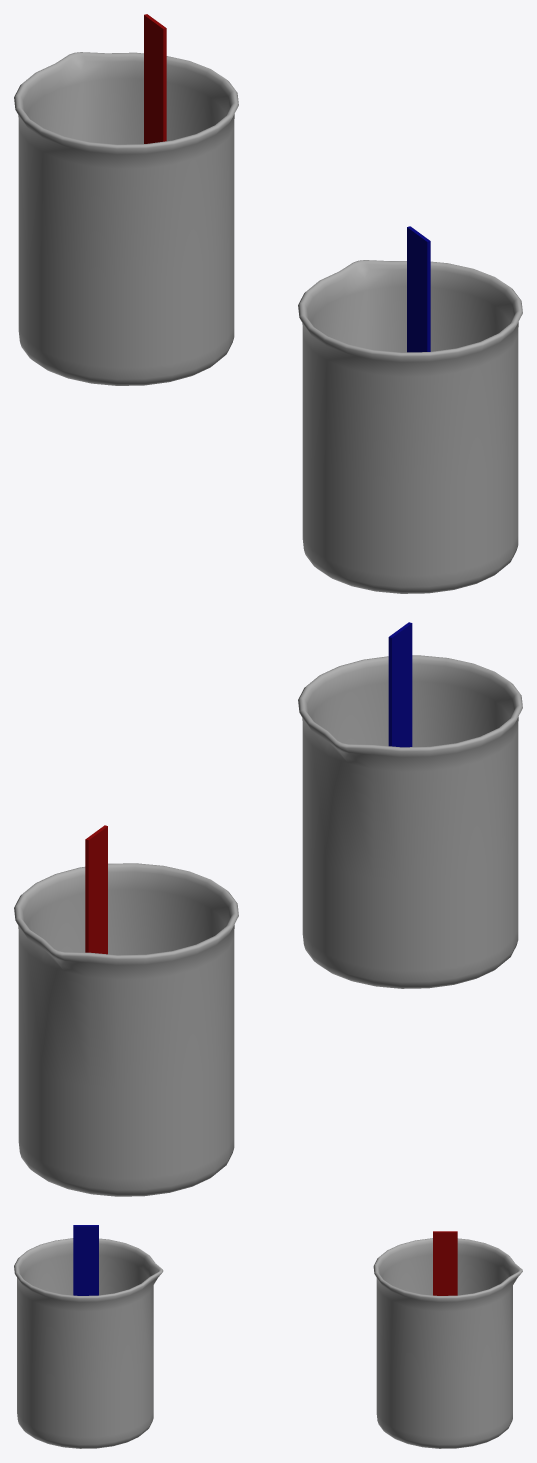
File: changing_litmus_paper.fbx
3 renders of one model, top to bottom at view 1: azimuth 30°, elevation 25°; view 2: azimuth 150°, elevation 25°; view 3: azimuth 270°, elevation 25°, orthographic. The views are drawn at different scales.
Visible parts, largest first — view 1: changing_litmus_paper; view 2: changing_litmus_paper; view 3: changing_litmus_paper.
Boxes of the visible parts, x1,y1,x2,y2 form: changing_litmus_paper: (14,14,522,593); changing_litmus_paper: (14,622,522,1196); changing_litmus_paper: (14,1225,522,1448).
Size of the model in its own units: 20.44 by 31.62 by 73.06.
